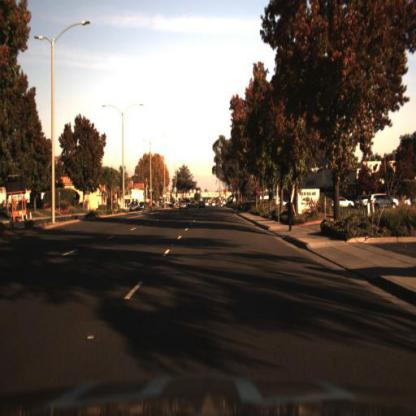car: (362, 188, 403, 216), (364, 191, 404, 213), (286, 189, 300, 236), (328, 193, 358, 214), (357, 194, 371, 213), (178, 197, 191, 213), (198, 197, 209, 215), (128, 199, 140, 215), (129, 199, 141, 215), (139, 199, 147, 213)
pedestrian: (284, 191, 298, 231)
